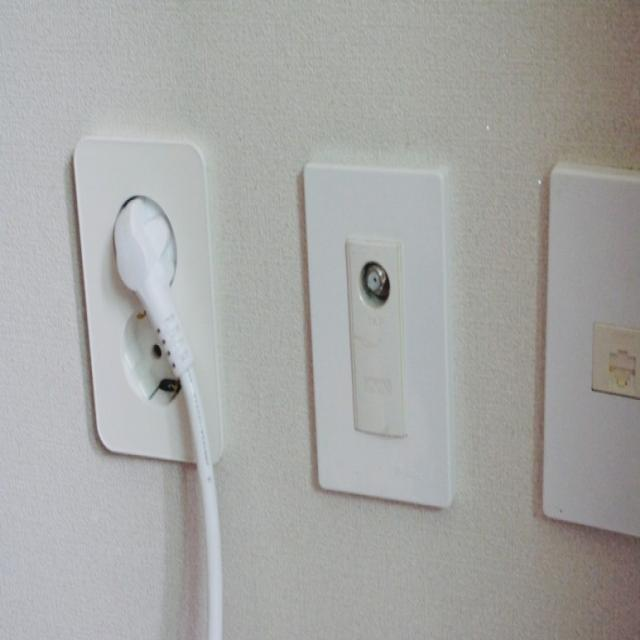typeb: (76, 118, 232, 544)
